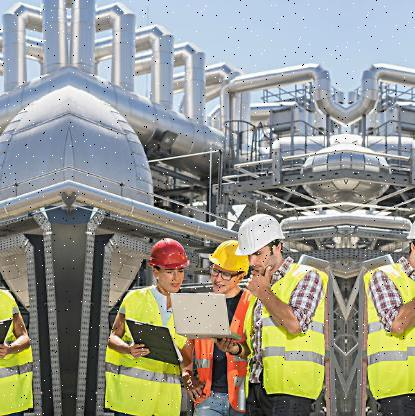helmet: (238, 203, 290, 279), (142, 230, 197, 291), (203, 234, 257, 295), (403, 203, 415, 280)
